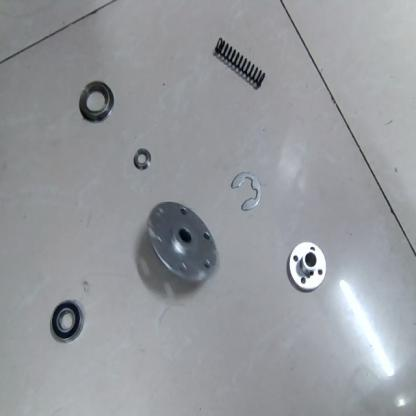FOD: (3, 3, 414, 412), (142, 198, 221, 288), (212, 31, 268, 96), (286, 239, 326, 292), (76, 78, 116, 126), (48, 298, 85, 346), (229, 171, 264, 214), (130, 144, 155, 171)
